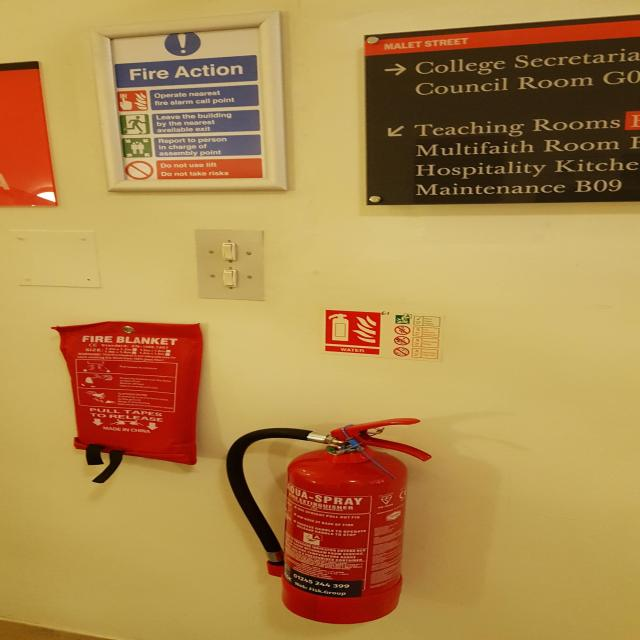fire_extinguisher: (214, 415, 442, 626)
